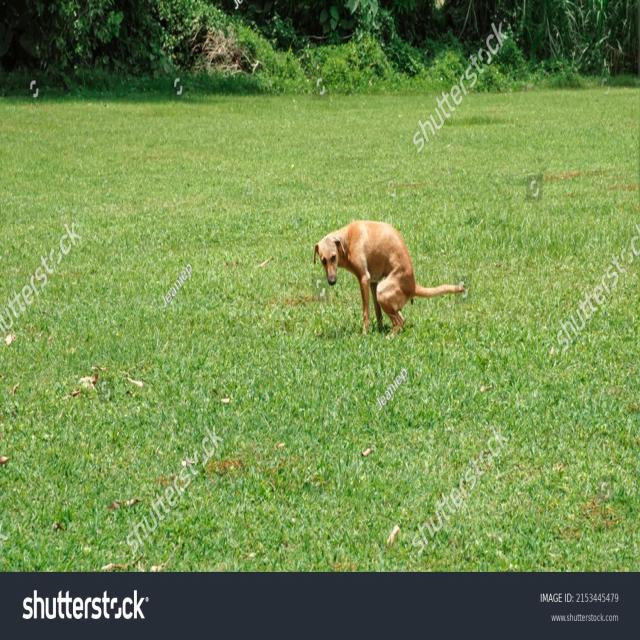Dogpoop: (310, 214, 471, 337)
